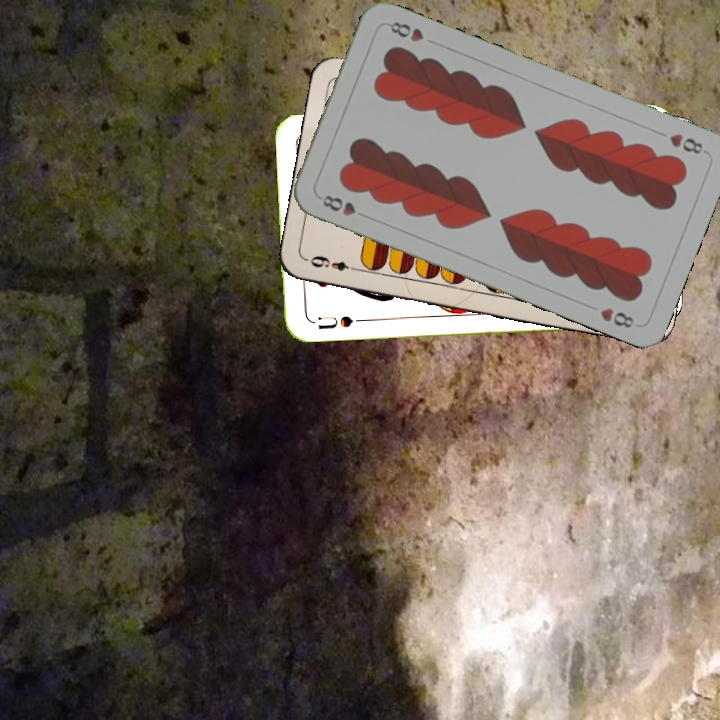E9: (304, 251, 362, 274)
H8: (318, 191, 371, 221), (665, 129, 710, 157)
SU: (308, 311, 367, 331)
